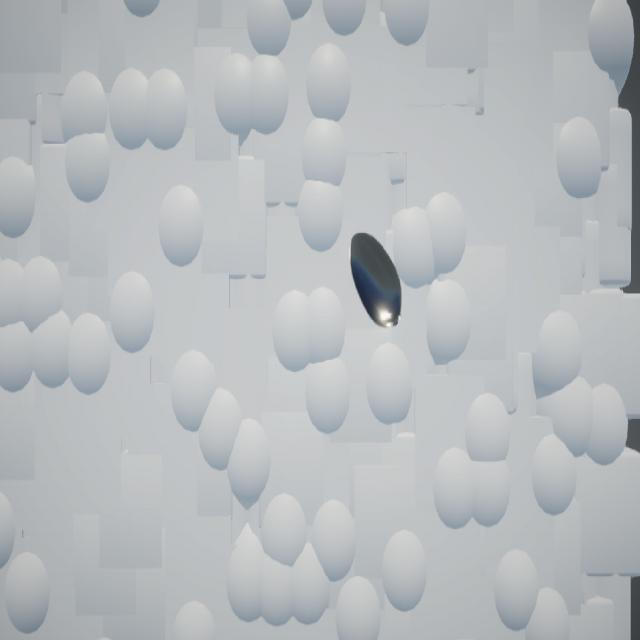top_spoon: (350, 233, 403, 328)
